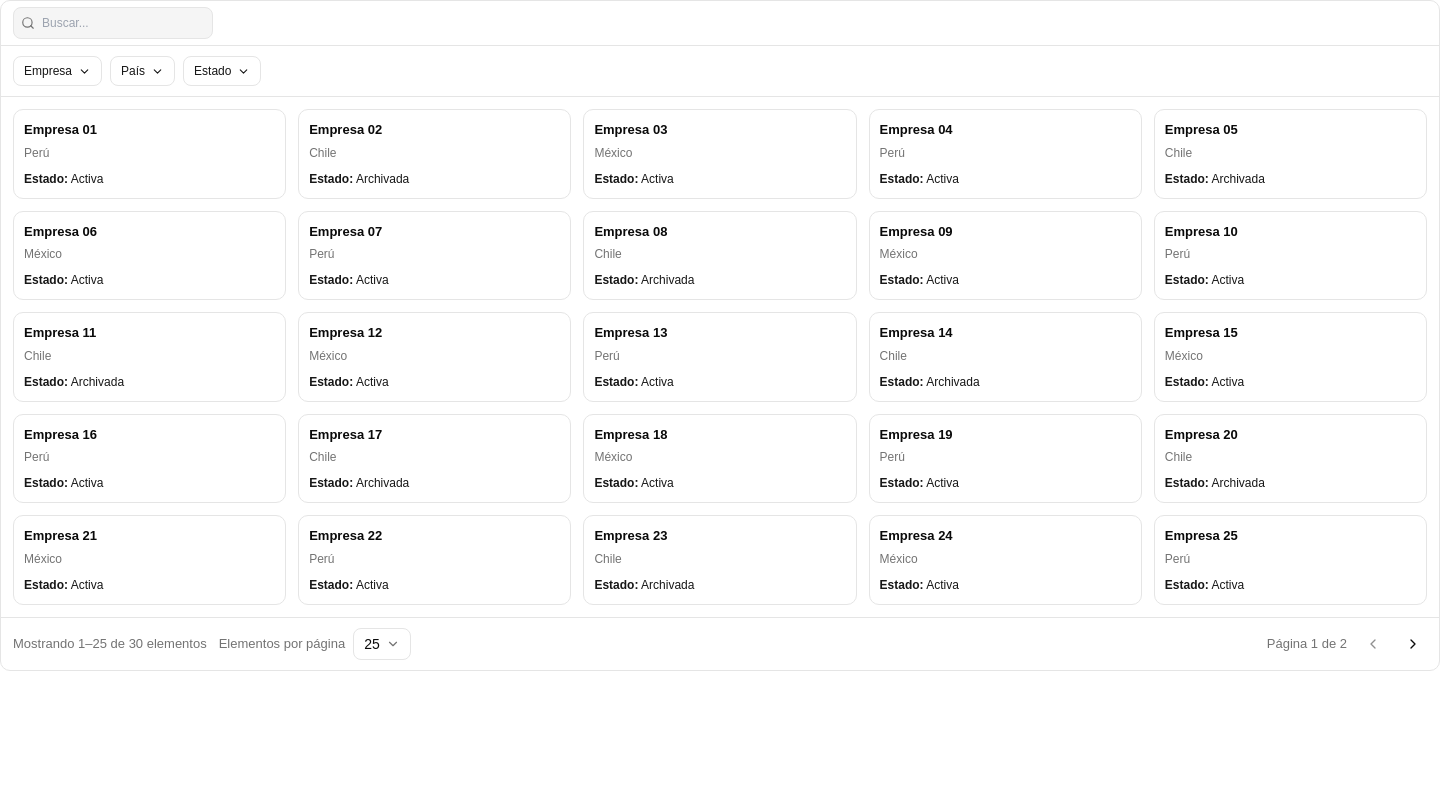
pages the cards and goes back to the first page after a search
This screenshot has width=1440, height=810.
Expected: the text "Mostrando 1–25 de 30 elementos" is shown, [13,634,207,653]
Step 1. Click the button named "Página siguiente" → [1413, 644], box [1399,630,1427,658]
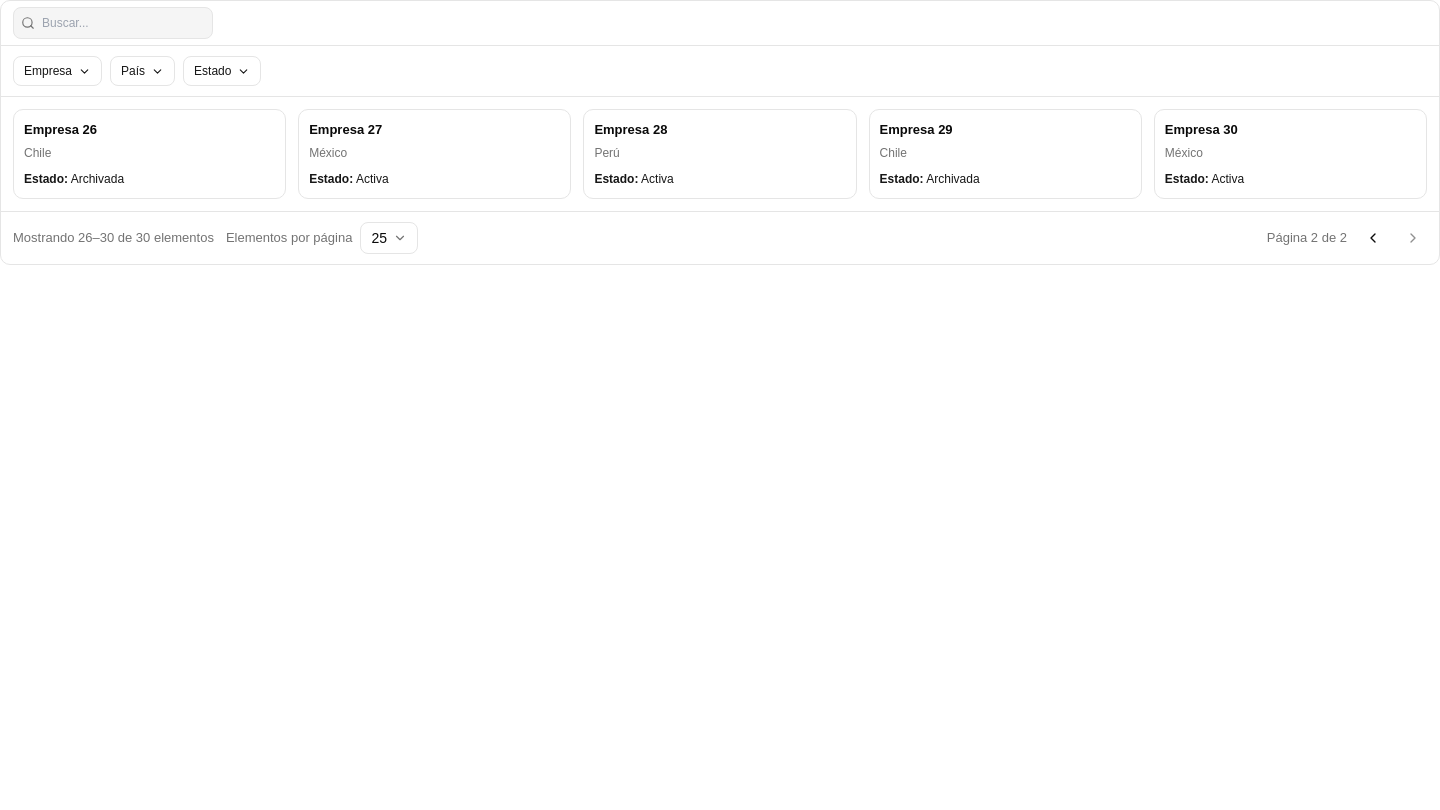
Step 2. Type "Empresa 0" into the search field → [113, 23], box [13,7,213,39]
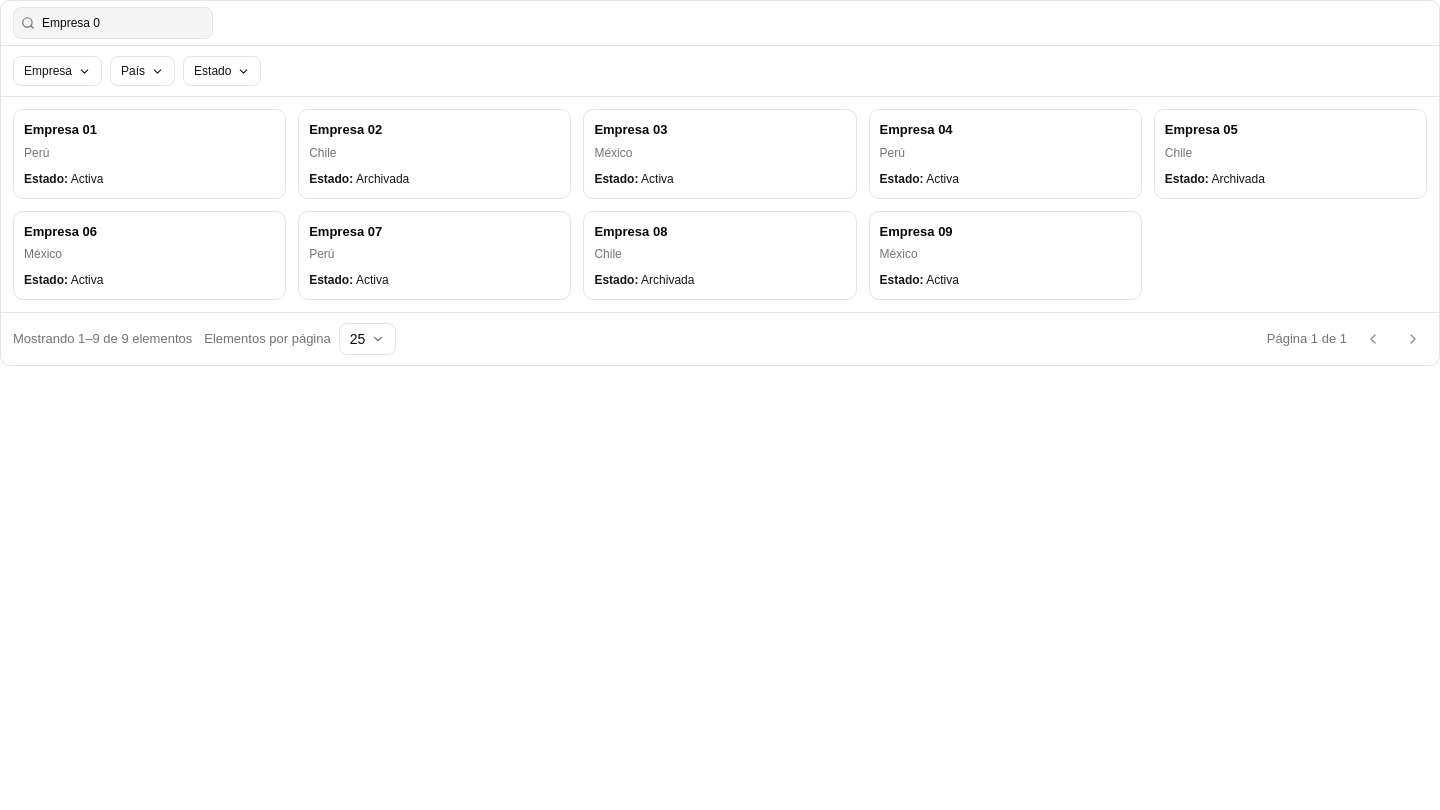
Expected: the text "Página 1 de 1" is shown, [1267,329,1347,349]
